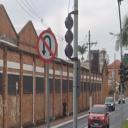NoVirarU: (36, 30, 58, 63)
